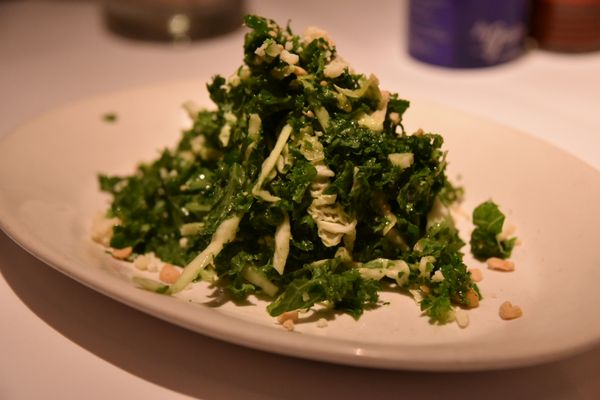curry: (102, 13, 477, 325), (470, 199, 517, 261)
pizza: (530, 0, 600, 53)
